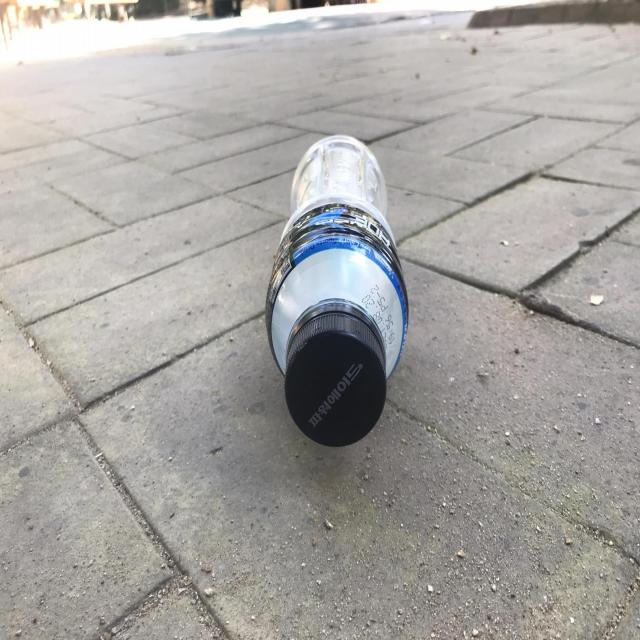plastic: (266, 135, 409, 447)
